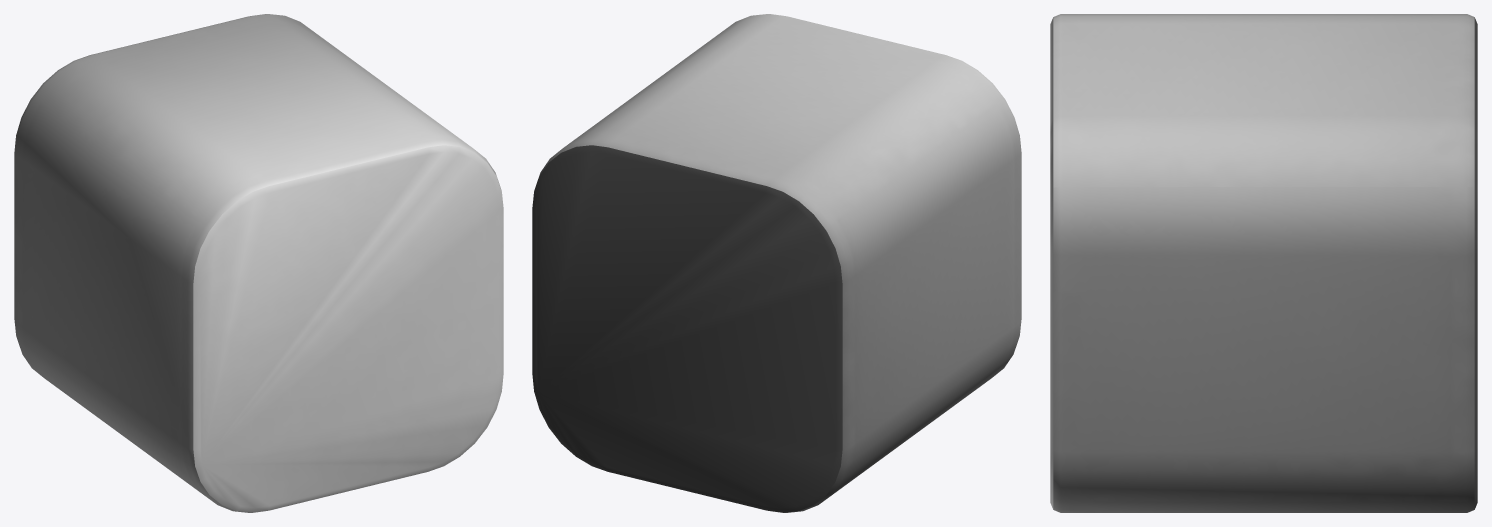
3 renders of one model, left to right at view 1: azimuth 30°, elevation 25°; view 2: azimuth 150°, elevation 25°; view 3: azimuth 270°, elevation 25°, orthographic. The views are drawn at different scales.
Visible parts, largest first — view 1: Cube.1; view 2: Cube.1; view 3: Cube.1.
Boxes of the visible parts, x1=… form: Cube.1: x1=14, y1=14, x2=503, y2=512; Cube.1: x1=532, y1=14, x2=1021, y2=512; Cube.1: x1=1050, y1=14, x2=1477, y2=512.
Size of the model in its own units: 0.8125 by 0.8125 by 0.8125.
